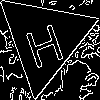H: (19, 14, 67, 70)
